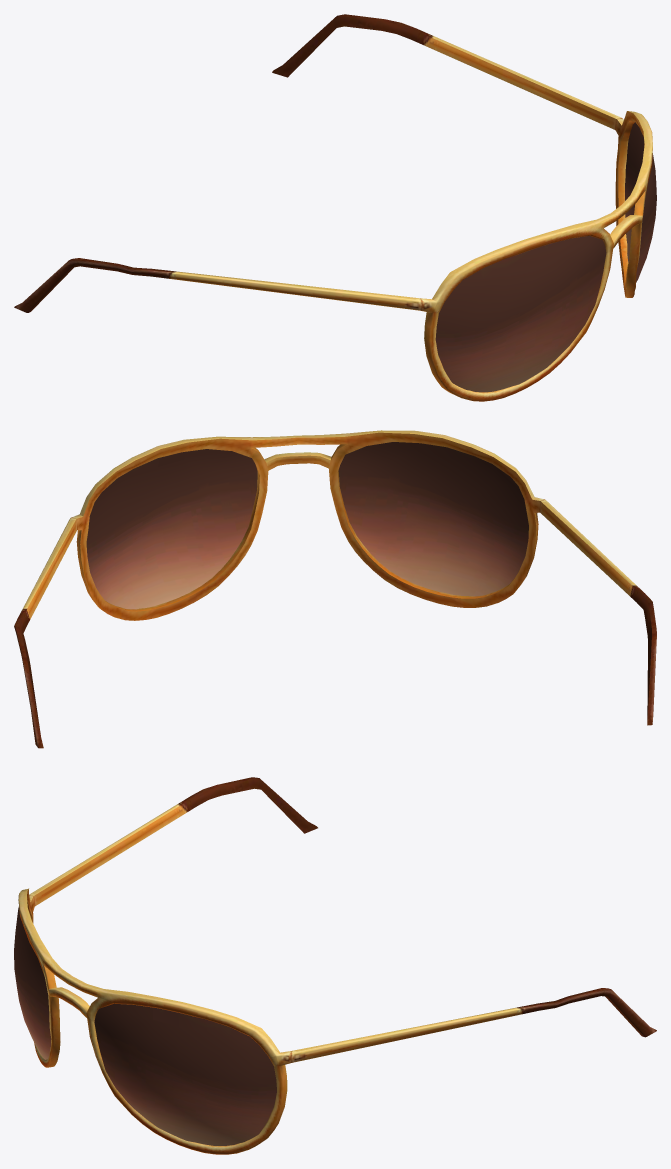
Rendered from sunglasses.fbx.
3 views of the same model, one above another, from view 1: azimuth 30°, elevation 25°; view 2: azimuth 150°, elevation 25°; view 3: azimuth 270°, elevation 25° (orthographic). The views are drawn at different scales.
Parts seen in each view (by area): view 1: node_id37, node_id35; view 2: node_id37, node_id35; view 3: node_id37, node_id35.
Part boxes in pixels (x1,y1,x2,y2): node_id37: (435,122,656,392); node_id35: (14,14,652,401); node_id37: (86,442,528,609); node_id35: (14,430,656,748); node_id37: (14,907,276,1145); node_id35: (18,777,656,1154).
Bounding box in the file's own units: 0.5025 × 0.1275 × 0.4892.
2 materials, 2 textured.
